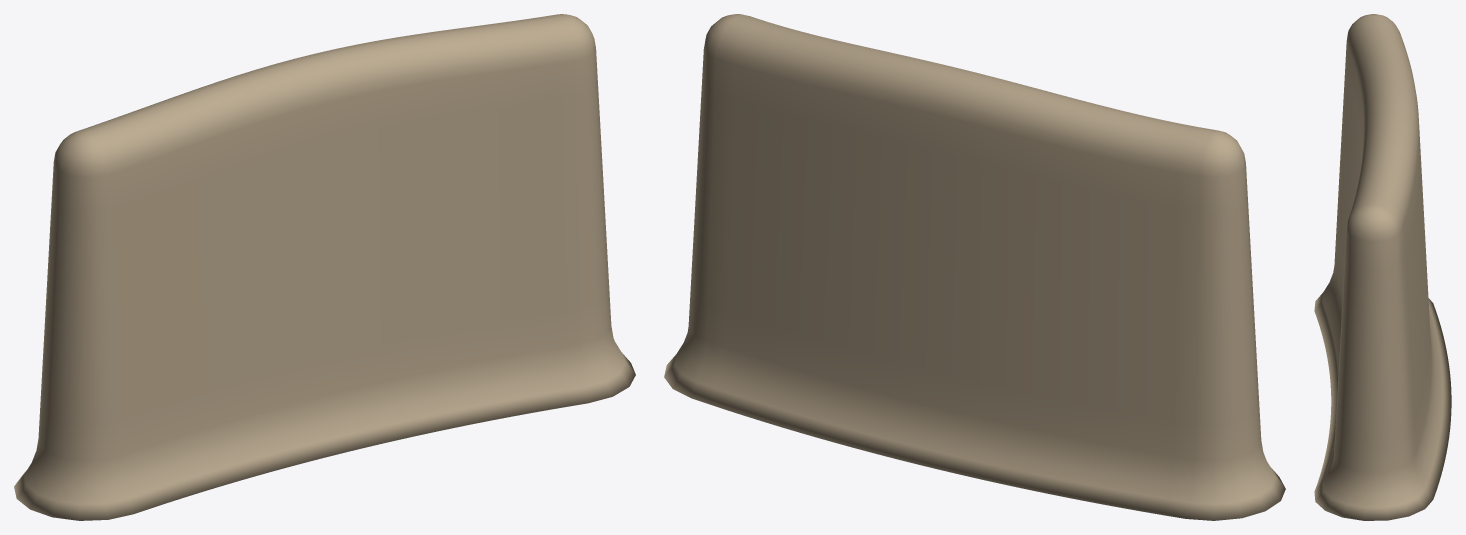
The model's file is KFB_Wall_curved_ring_r4_capAB.r4.glb.
3 views of the same model, side by side, from view 1: azimuth 30°, elevation 25°; view 2: azimuth 150°, elevation 25°; view 3: azimuth 270°, elevation 25° (orthographic). The views are drawn at different scales.
Parts seen in each view (by area): view 1: KFB_Wall_curved_ring_r4_capAB; view 2: KFB_Wall_curved_ring_r4_capAB; view 3: KFB_Wall_curved_ring_r4_capAB.
Boxes of the visible parts, x1,y1,x2,y2 form: KFB_Wall_curved_ring_r4_capAB: (14,14,635,520); KFB_Wall_curved_ring_r4_capAB: (664,14,1285,520); KFB_Wall_curved_ring_r4_capAB: (1314,14,1451,520).
Size of the model in its own units: 6.34 by 3.69 by 1.54.
